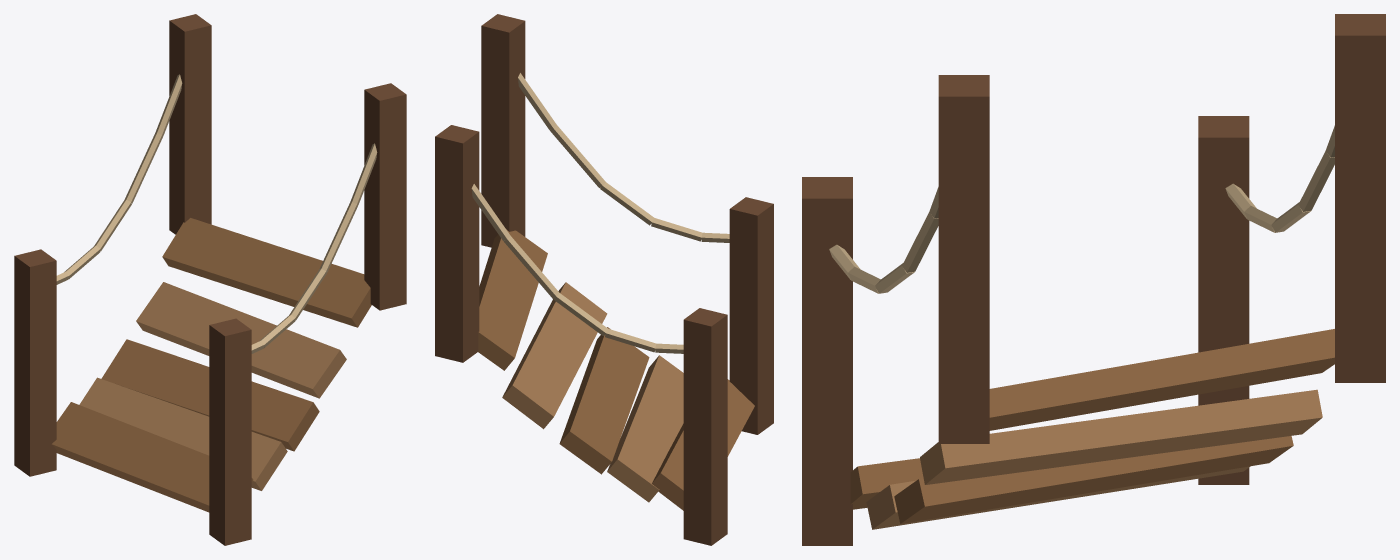
File: bridge_1.glb
The picture shows the model from 3 angles, left to right: view 1: azimuth 30°, elevation 25°; view 2: azimuth 150°, elevation 25°; view 3: azimuth 270°, elevation 25°; orthographic projection. The views are drawn at different scales.
Parts seen in each view (by area): view 1: bridge_1; view 2: bridge_1; view 3: bridge_1.
Part boxes in pixels (<box>): bridge_1: <box>14,14,406,545</box>; bridge_1: <box>435,14,773,545</box>; bridge_1: <box>802,14,1385,545</box>.
Size of the model in its own units: 0.893 by 1.05 by 0.9139.
